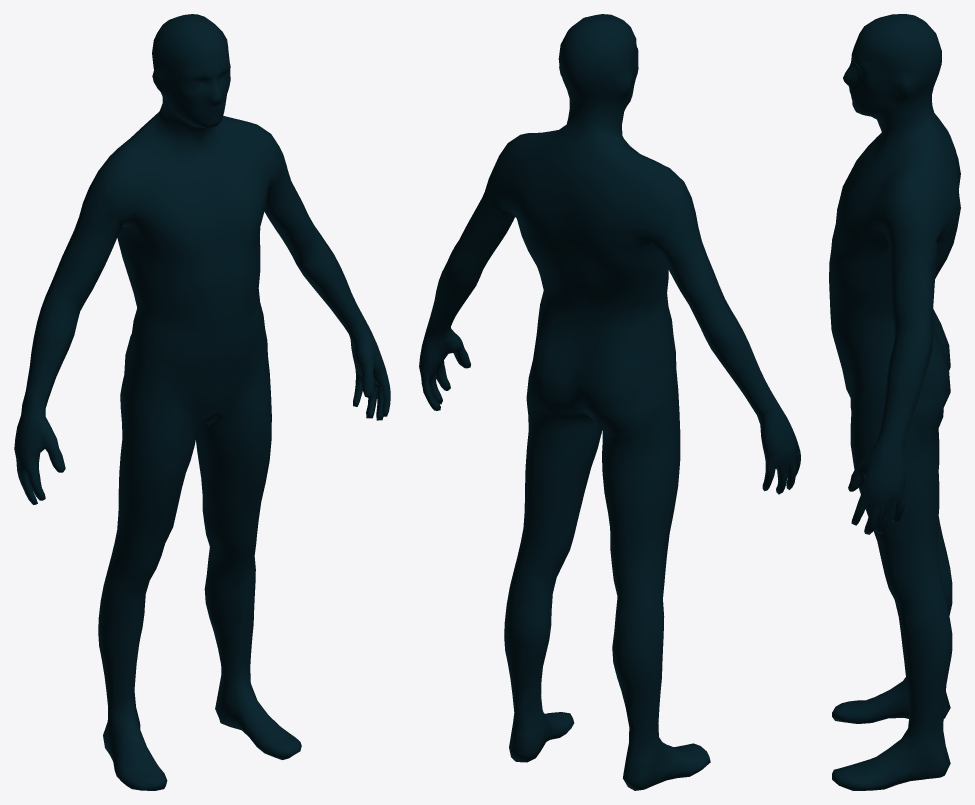
The model's file is body.glb.
3 views of the same model, side by side, from view 1: azimuth 30°, elevation 25°; view 2: azimuth 150°, elevation 25°; view 3: azimuth 270°, elevation 25° (orthographic).
Parts seen in each view (by area): view 1: 人体; view 2: 人体; view 3: 人体.
Part boxes in pixels (left/top/right/bottom): 人体: left=14, top=14, right=390, bottom=790; 人体: left=419, top=14, right=800, bottom=790; 人体: left=829, top=14, right=960, bottom=790.
Bounding box in the file's own units: 25.01 × 48.29 × 7.86.
